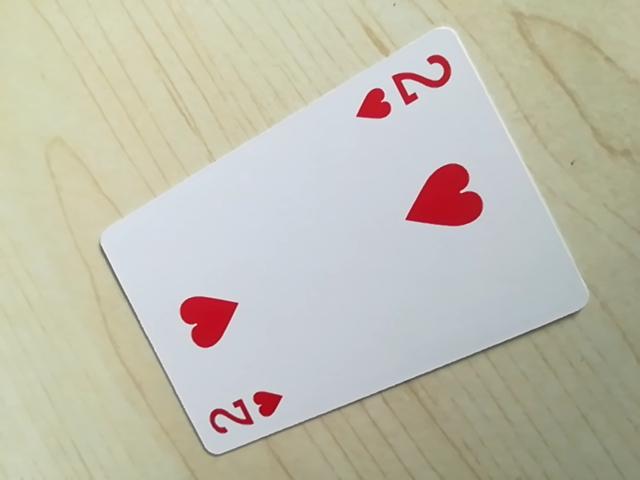hx 2: (353, 50, 458, 129), (199, 387, 288, 445)
